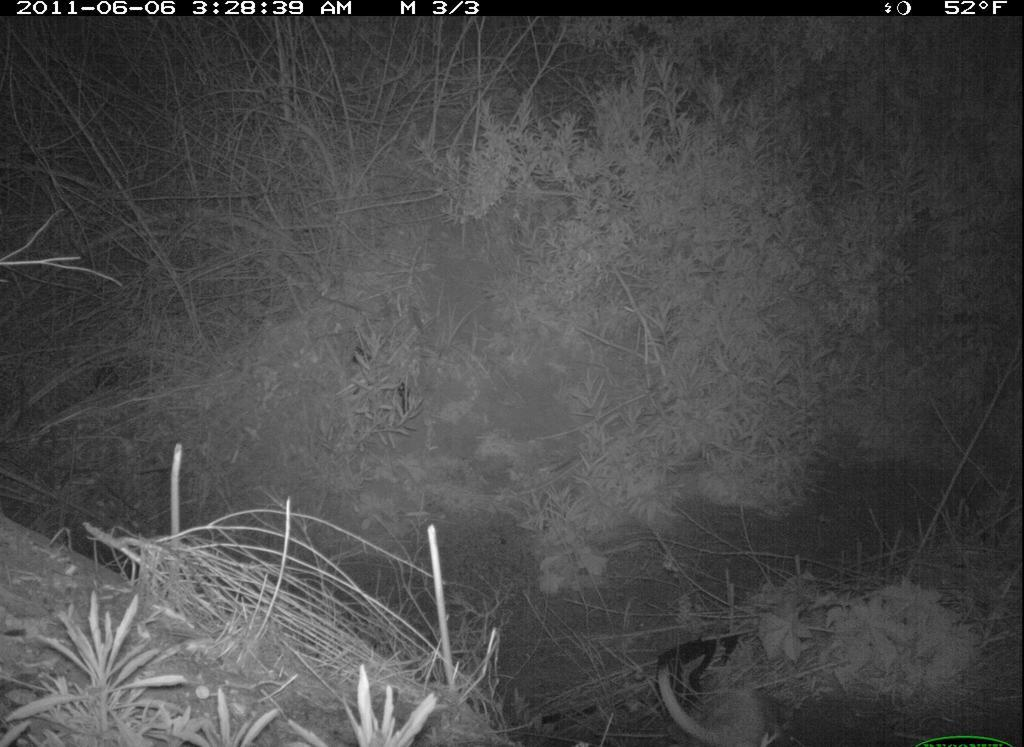opossum: (655, 664, 786, 747)
